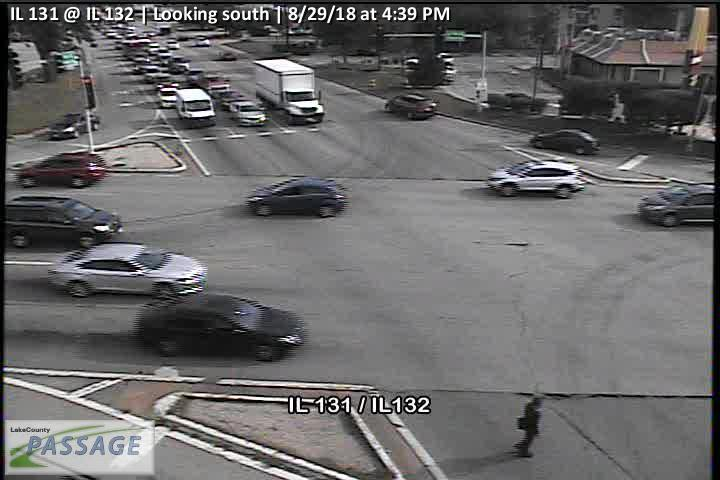SUV: (174, 85, 216, 128)
Sedan: (136, 295, 307, 363), (44, 242, 210, 298), (1, 193, 125, 250), (247, 176, 349, 218), (487, 158, 584, 198), (12, 149, 109, 187), (639, 186, 717, 227), (530, 129, 601, 155), (387, 91, 437, 121), (229, 100, 268, 127), (157, 85, 179, 108)
Truck: (253, 56, 326, 128)
